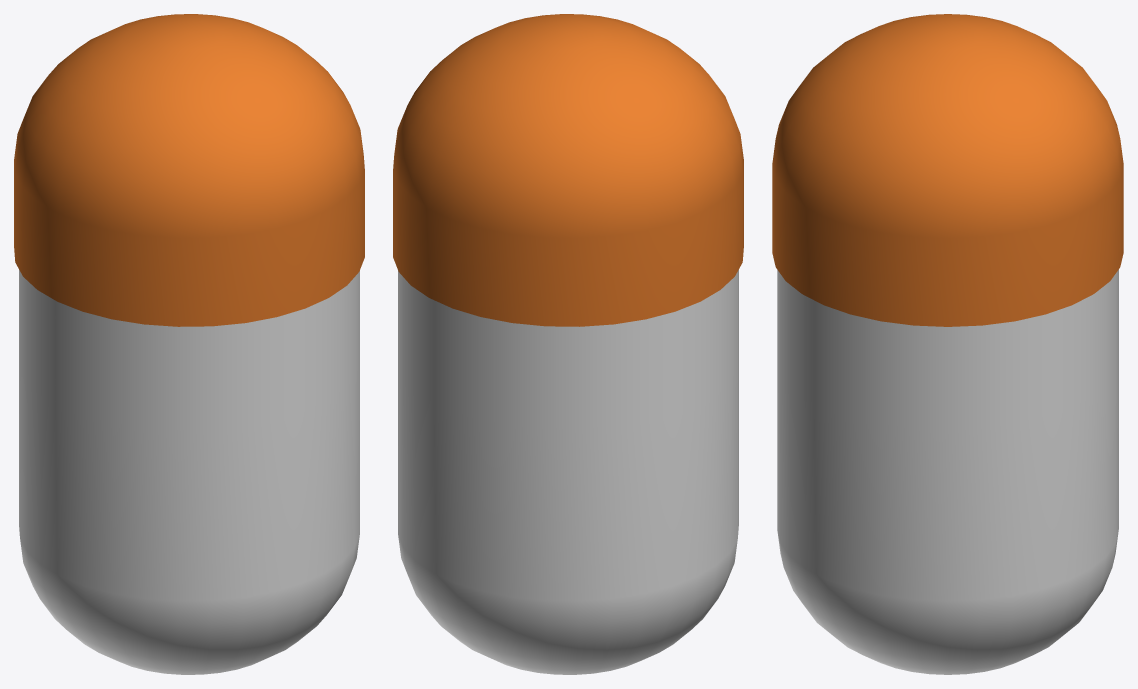
Rendered from Container_Single.fbx.
The picture shows the model from 3 angles, left to right: view 1: azimuth 30°, elevation 25°; view 2: azimuth 150°, elevation 25°; view 3: azimuth 270°, elevation 25°; orthographic projection.
Parts seen in each view (by area): view 1: Sphere.001; view 2: Sphere.001; view 3: Sphere.001.
Part boxes in pixels (bbox=[...]): Sphere.001: bbox=[14, 14, 364, 674]; Sphere.001: bbox=[393, 14, 743, 674]; Sphere.001: bbox=[772, 14, 1123, 674].
Size of the model in its own units: 1.71 by 3.35 by 1.71.
